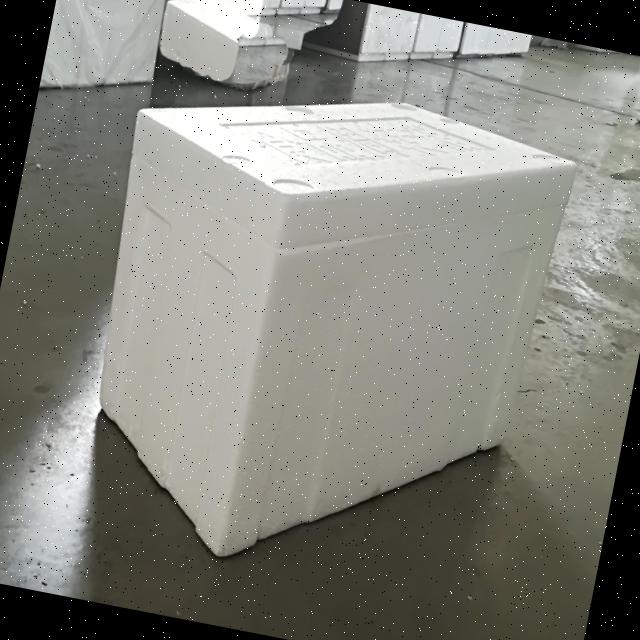styrofoam: (56, 49, 584, 610)
